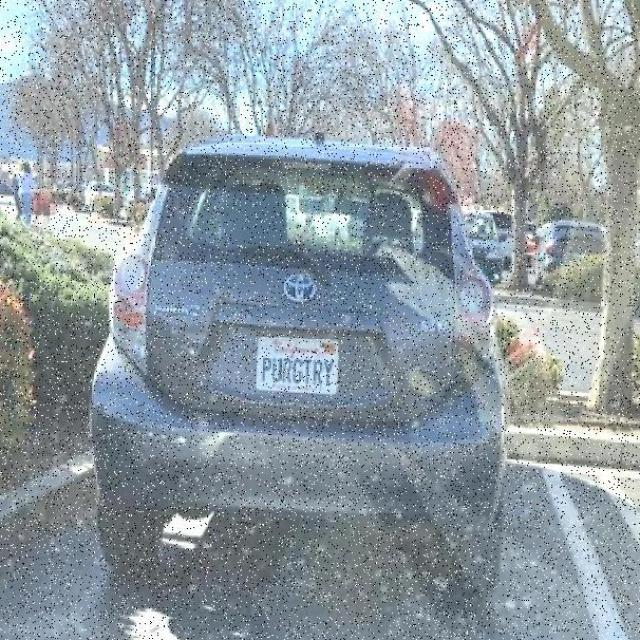LicensePlate: (254, 334, 339, 395)
